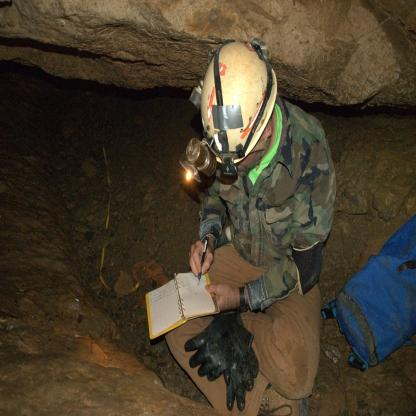Helmet: (195, 41, 280, 183)
